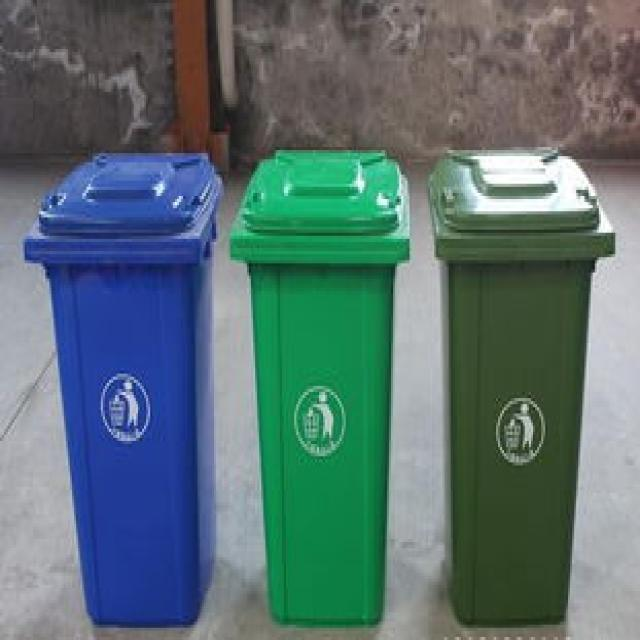garbage_bin: (23, 147, 220, 628), (428, 144, 613, 625), (228, 147, 408, 622)
